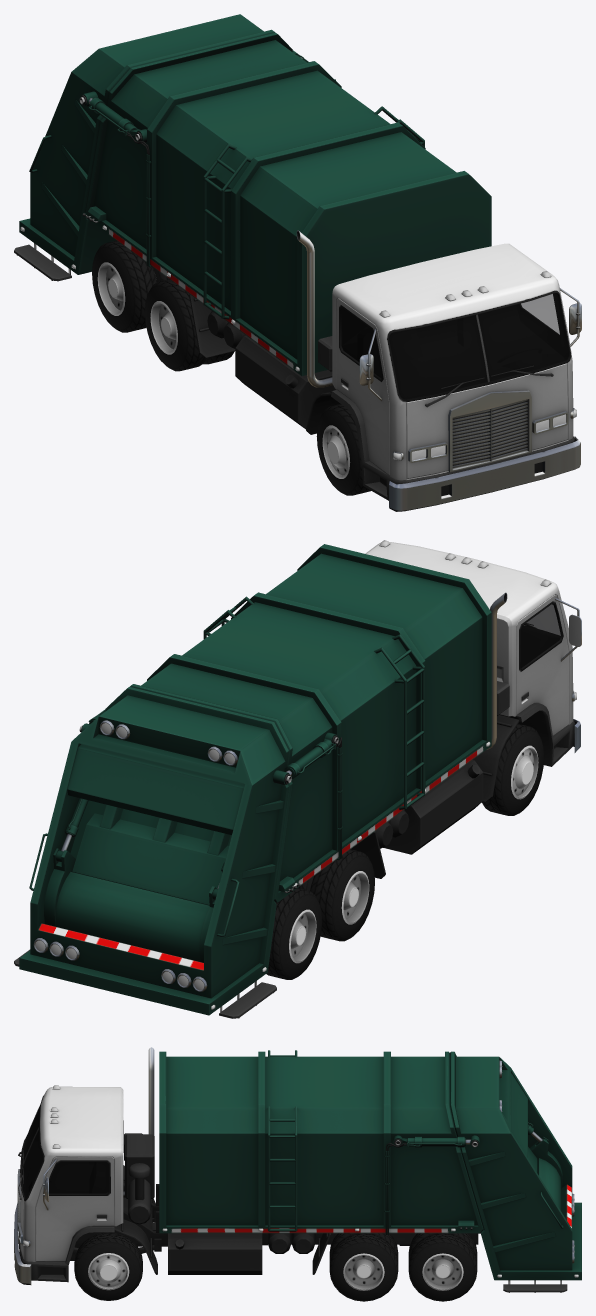
Rendered from garbagetruck.fbx.
3 views of the same model, one above another, from view 1: azimuth 30°, elevation 25°; view 2: azimuth 150°, elevation 25°; view 3: azimuth 270°, elevation 25° (orthographic). The views are drawn at different scales.
Visible parts, largest first — view 1: garbage_truck, garbage_truck_wheelRR, garbage_truck_wheelCR, garbage_truck_wheelFR; view 2: garbage_truck, garbage_truck_wheelCR, garbage_truck_wheelRR, garbage_truck_wheelFR; view 3: garbage_truck, garbage_truck_wheelRL, garbage_truck_wheelCL, garbage_truck_wheelFL.
Part boxes in pixels (x1,y1,x2,y2): garbage_truck: (14,14,581,511); garbage_truck_wheelRR: (92,240,168,332); garbage_truck_wheelCR: (144,279,234,371); garbage_truck_wheelFR: (316,404,370,495); garbage_truck: (14,540,581,1018); garbage_truck_wheelCR: (298,849,374,941); garbage_truck_wheelRR: (266,888,322,979); garbage_truck_wheelFR: (482,723,544,815); garbage_truck: (14,1047,581,1292); garbage_truck_wheelRL: (408,1233,477,1301); garbage_truck_wheelCL: (329,1233,398,1301); garbage_truck_wheelFL: (74,1232,142,1300).
Bounding box in the file's own units: 2736 × 2959 × 7999.
